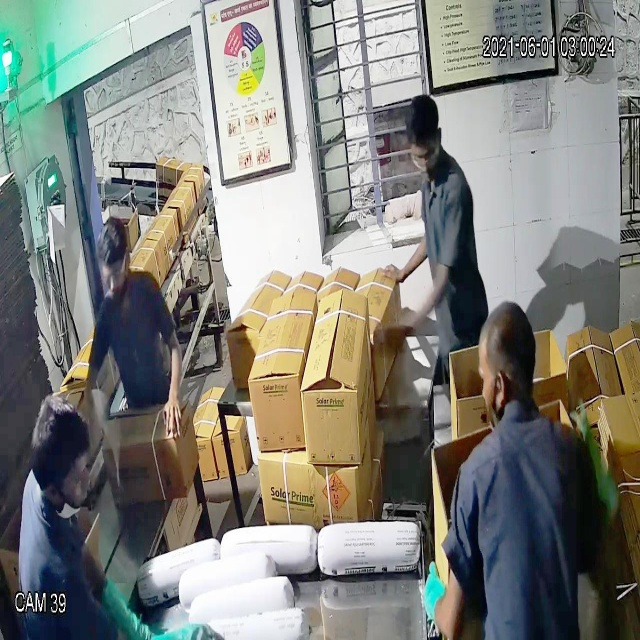Gafas: (96, 252, 134, 291)
